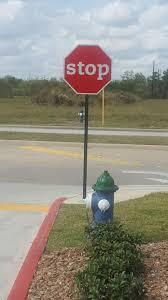Pole: (84, 95, 90, 197)
Sign: (65, 44, 112, 95)
